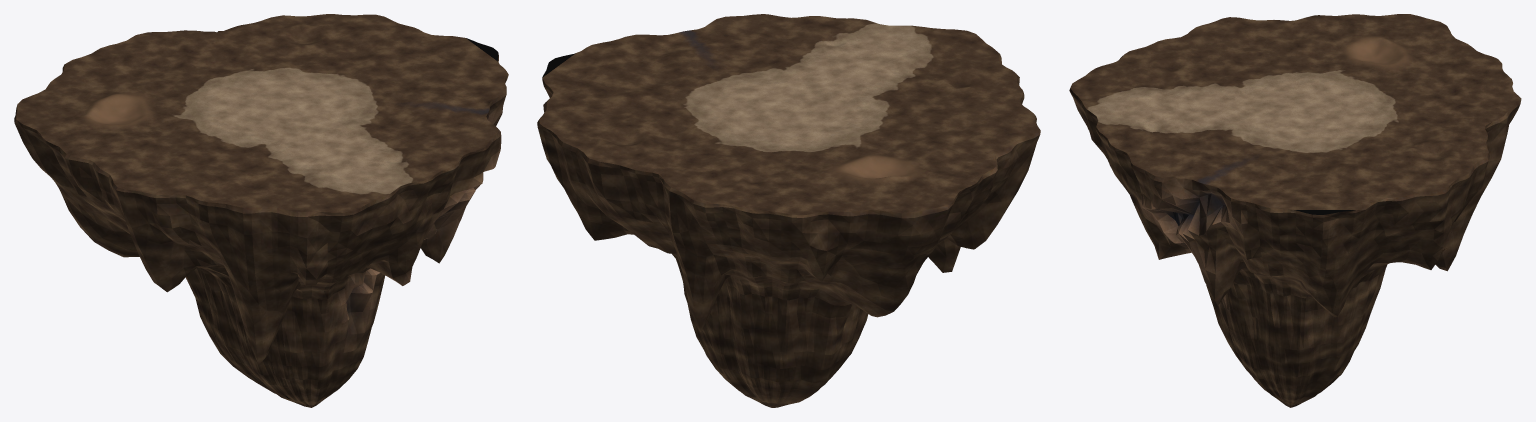
File: asteroid-v05-DufM9r3L.glb
3 renders of one model, left to right at view 1: azimuth 30°, elevation 25°; view 2: azimuth 150°, elevation 25°; view 3: azimuth 270°, elevation 25°, orthographic. The views are drawn at different scales.
Visible parts, largest first — view 1: Asteroid_Surface, Asteroid_Rock; view 2: Asteroid_Surface, Asteroid_Rock; view 3: Asteroid_Surface, Asteroid_Rock.
Boxes of the visible parts, x1,y1,x2,y2 form: Asteroid_Surface: (16, 14, 506, 212); Asteroid_Rock: (14, 53, 508, 407); Asteroid_Surface: (539, 14, 1038, 215); Asteroid_Rock: (537, 51, 1040, 407); Asteroid_Surface: (1070, 14, 1518, 214); Asteroid_Rock: (1069, 55, 1521, 407).
Bounding box in the file's own units: 104 × 69.17 × 98.14.
2 materials, 2 textured.
